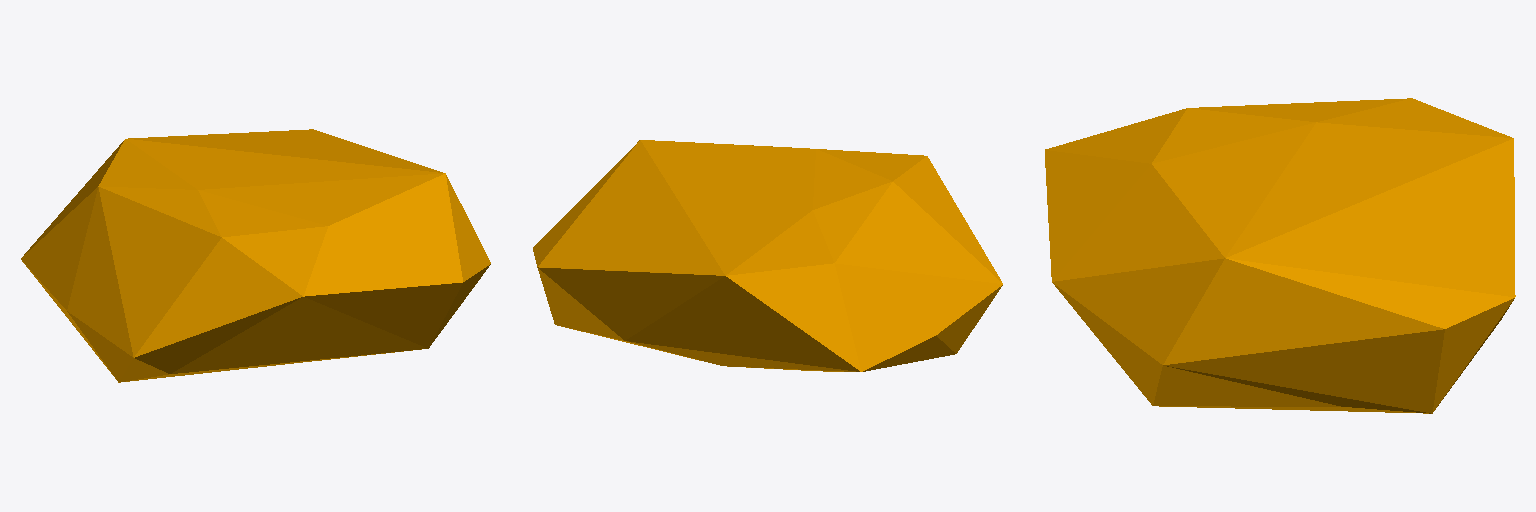
URDF robot description (train1050):
<?xml version="1.0"?>
<robot name="train1050">
  <link name="link">
    <contact>
      <lateral_friction value="0.6"/>
    </contact>
    <inertial>
      <mass value = "0.3713572233987399"/>
      <inertia ixx="0.00015536348966941848" ixy="-5.705263208125244e-20" ixz="7.123017690816633e-21" iyy="0.00019753668132797787" iyz="1.98622608686233e-21" izz="0.0003008419125629539" />
    </inertial>
    <visual name="visual">
      <geometry>
        <mesh filename="train1050.obj"/>
      </geometry>
    </visual>
    <collision name="collision">
      <geometry>
        <mesh filename="train1050.obj"/>
      </geometry>
    </collision>
  </link>
</robot>

--- Facts derived from the render (not from the file) ---
3 views of the same robot in one strip: view 1: azimuth 30°, elevation 25°; view 2: azimuth 150°, elevation 25°; view 3: azimuth 270°, elevation 25° (orthographic).
Model train1050 with 1 links and 0 joints (none), rooted at link, posed all joints at 0.
Visible links, largest first — view 1: link; view 2: link; view 3: link.
Boxes of the visible links, x1=… form: link: x1=21, y1=129, x2=490, y2=382; link: x1=533, y1=140, x2=1002, y2=371; link: x1=1045, y1=98, x2=1515, y2=413.
Size in the robot's own frame: 0.0885 by 0.0816 by 0.0354 metres.
1 mesh visuals loaded from 1 distinct referenced files (1 OBJ).
